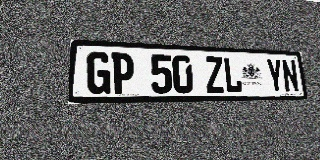0: (172, 55, 193, 93)
5: (151, 54, 173, 94)
G: (86, 52, 111, 94)
L: (223, 57, 243, 93)
N: (281, 60, 299, 93)
P: (111, 53, 134, 94)
Y: (265, 59, 284, 93)
Z: (204, 56, 225, 93)
